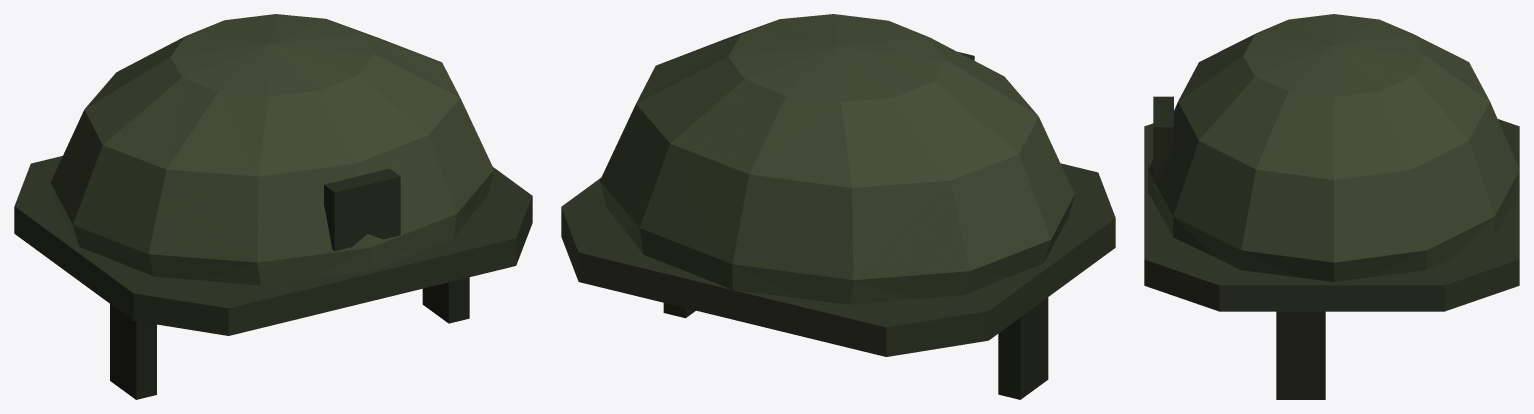
File: class.glb
3 renders of one model, left to right at view 1: azimuth 30°, elevation 25°; view 2: azimuth 150°, elevation 25°; view 3: azimuth 270°, elevation 25°, orthographic. The views are drawn at different scales.
Visible parts, largest first — view 1: Class Issue.002; view 2: Class Issue.002; view 3: Class Issue.002.
Boxes of the visible parts, left/top/right/bottom form: Class Issue.002: left=14, top=14, right=532, bottom=399; Class Issue.002: left=561, top=14, right=1115, bottom=399; Class Issue.002: left=1144, top=14, right=1519, bottom=399.
Size of the model in its own units: 0.6996 by 0.4889 by 0.6006.
Materials: 2 (1 with a texture image).
